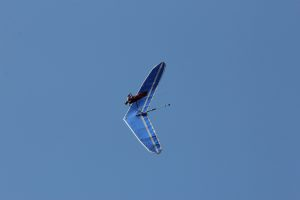Aeronef_de_loisir: (116, 57, 182, 160)
